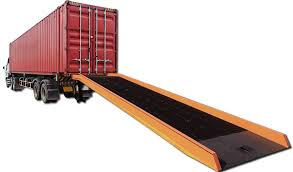Yard Ramp: (70, 72, 291, 172)
